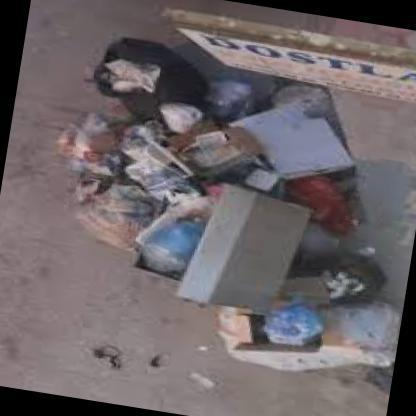Garbage: (284, 160, 370, 232), (250, 288, 332, 354), (71, 164, 148, 226), (128, 220, 202, 280), (53, 97, 108, 168), (187, 59, 251, 114), (321, 259, 379, 301), (106, 54, 158, 95), (208, 304, 260, 336)
